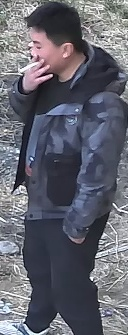smoking: (8, 8, 87, 127)
